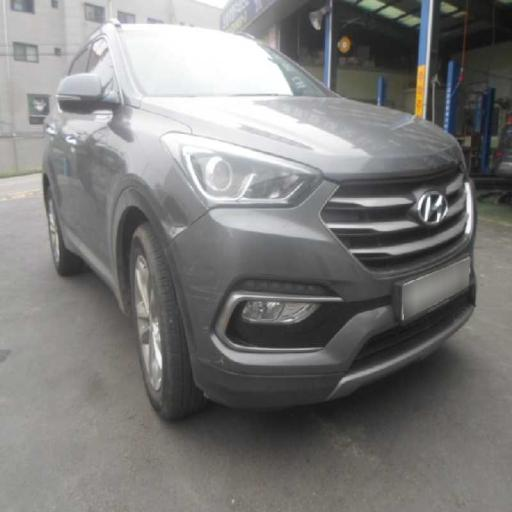normal: (32, 19, 491, 393)
